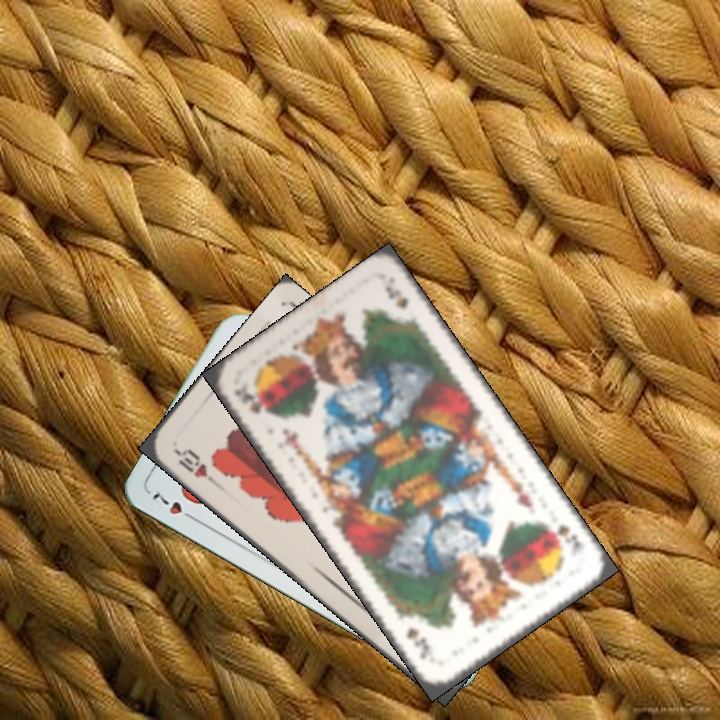H10: (170, 444, 220, 488)
H7: (147, 488, 201, 524)
SK: (542, 517, 584, 557), (229, 380, 272, 419)
